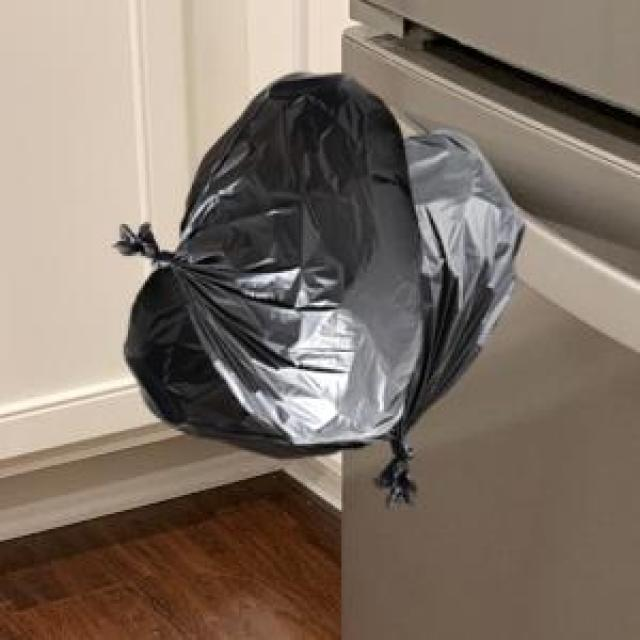miscellaneous trash: (120, 126, 521, 504), (111, 68, 418, 440)
